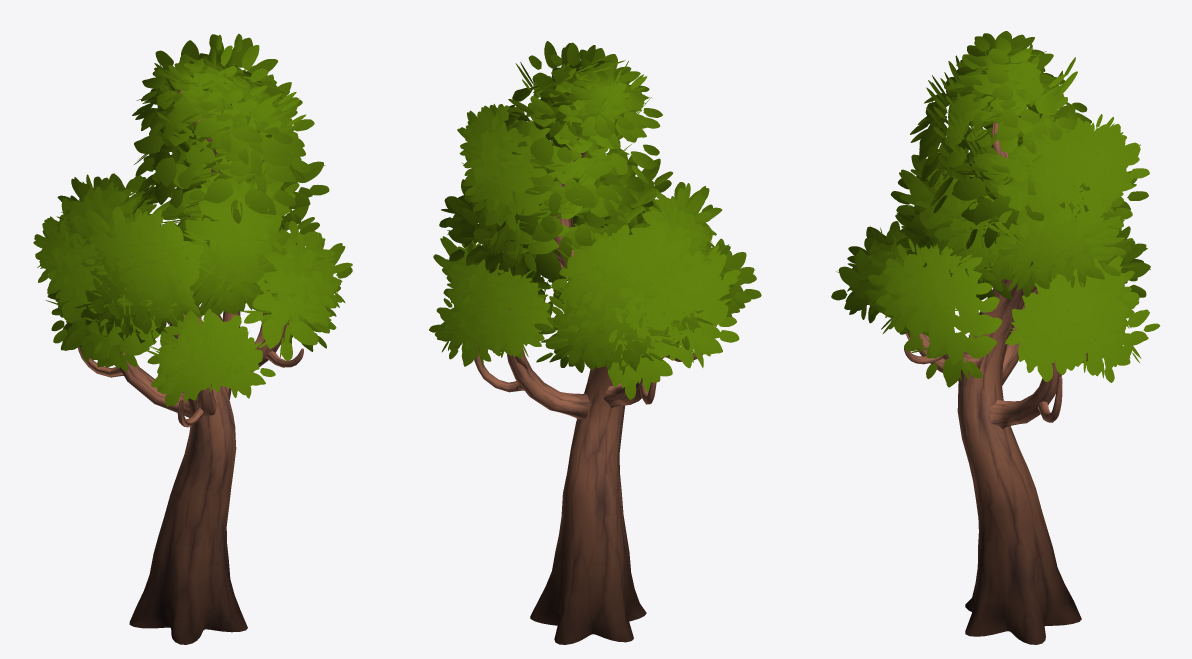
Rendered from CommonTree_2.gltf.
3 renders of one model, left to right at view 1: azimuth 30°, elevation 25°; view 2: azimuth 150°, elevation 25°; view 3: azimuth 270°, elevation 25°, orthographic. The views are drawn at different scales.
Visible parts, largest first — view 1: CommonTree_2; view 2: CommonTree_2; view 3: CommonTree_2.
Boxes of the visible parts, box(x1,y1,x2,y2) form: CommonTree_2: box(33, 34, 352, 644); CommonTree_2: box(429, 41, 761, 644); CommonTree_2: box(831, 31, 1159, 644).
Bounding box in the file's own units: 4.46 × 7.64 × 4.28.
2 materials, 2 textured.
